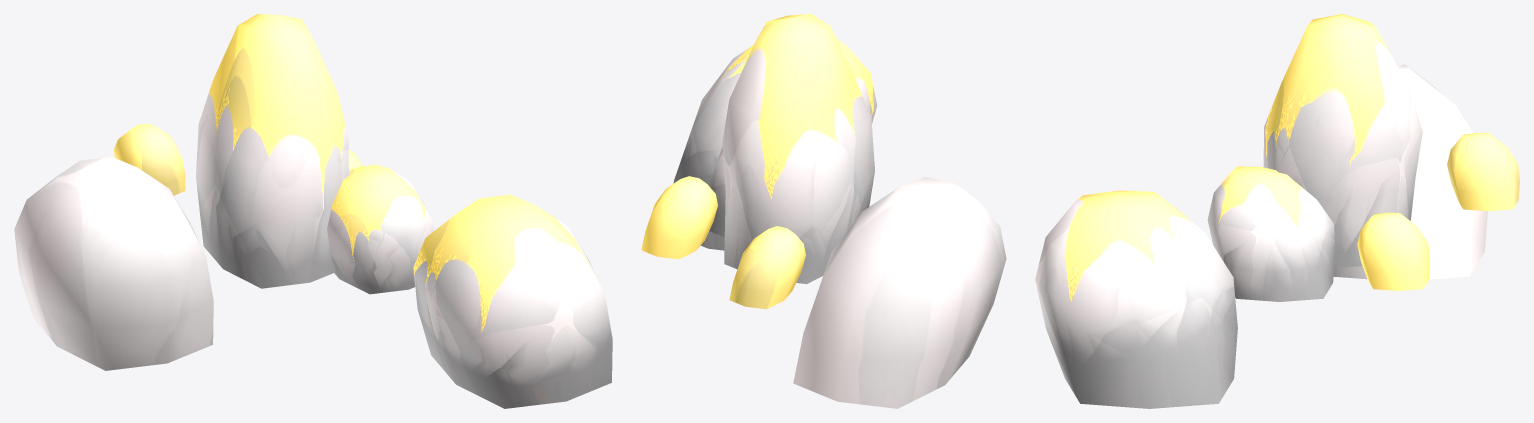
Rendered from GoldRocks.glb.
The picture shows the model from 3 angles, left to right: view 1: azimuth 30°, elevation 25°; view 2: azimuth 150°, elevation 25°; view 3: azimuth 270°, elevation 25°; orthographic projection. The views are drawn at different scales.
Visible parts, largest first — view 1: Rubble.004; view 2: Rubble.004; view 3: Rubble.004.
Boxes of the visible parts, x1,y1,x2,y2 form: Rubble.004: (14, 14, 612, 408); Rubble.004: (641, 14, 1006, 408); Rubble.004: (1035, 14, 1519, 408).
Bounding box in the file's own units: 23.15 × 16.34 × 24.31.
